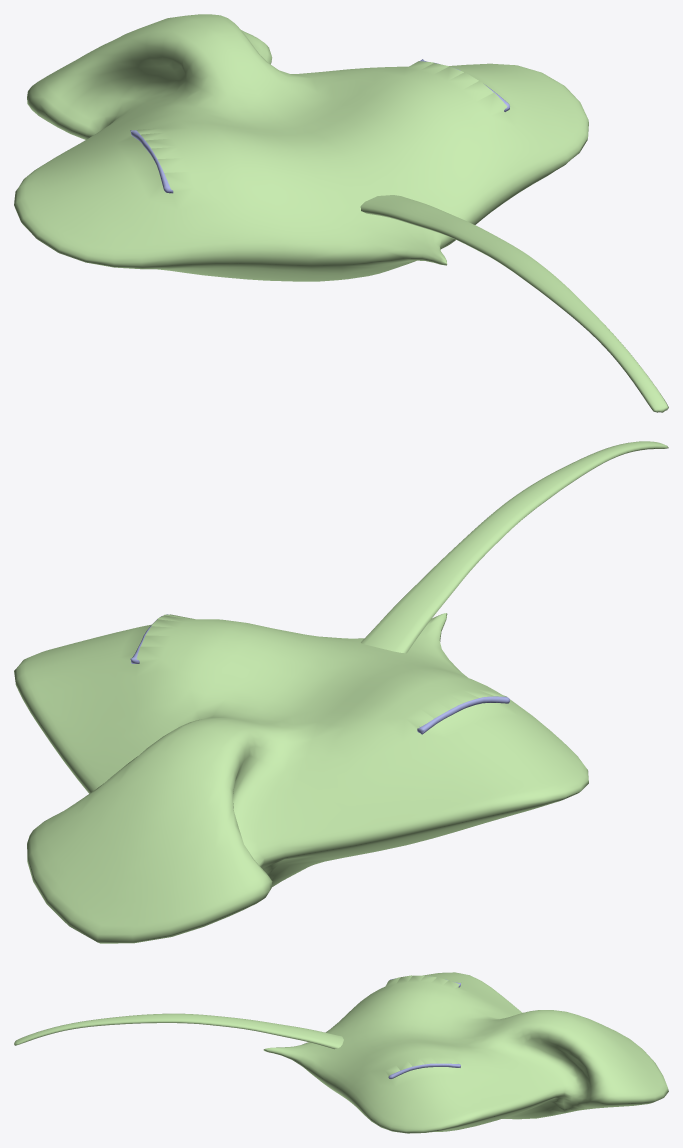
The model's file is Fish Vehicle.fbx.
3 renders of one model, top to bottom at view 1: azimuth 30°, elevation 25°; view 2: azimuth 150°, elevation 25°; view 3: azimuth 270°, elevation 25°, orthographic. The views are drawn at different scales.
Parts seen in each view (by area): view 1: Fish Vehicle; view 2: Fish Vehicle; view 3: Fish Vehicle.
Part boxes in pixels (x1,y1,x2,y2): Fish Vehicle: [14, 14, 668, 412]; Fish Vehicle: [14, 441, 668, 943]; Fish Vehicle: [14, 972, 668, 1133].
Bounding box in the file's own units: 5.78 × 1.72 × 10.38.
